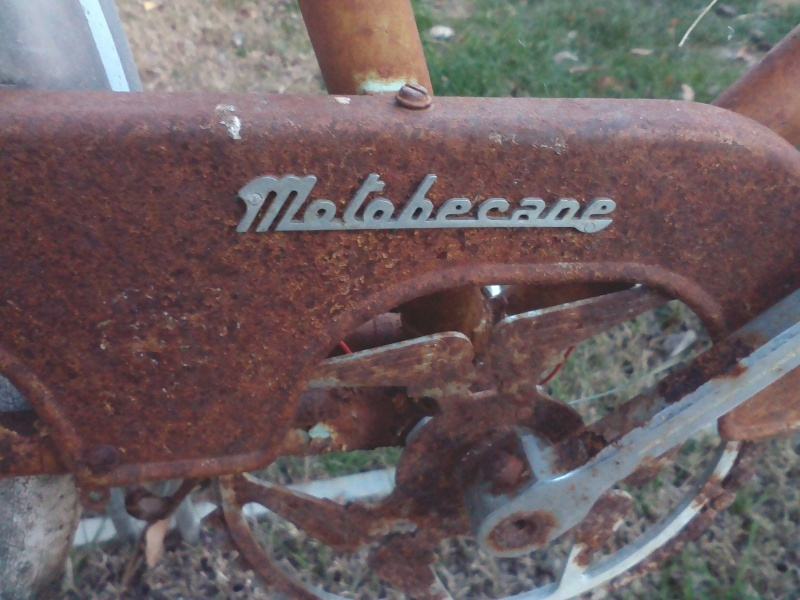text: (241, 160, 256, 239), (257, 160, 272, 239), (273, 160, 288, 239), (289, 160, 304, 239), (305, 160, 320, 239), (321, 160, 336, 239), (337, 160, 352, 239), (353, 160, 368, 239), (369, 160, 384, 239), (385, 160, 400, 239), (401, 160, 416, 239), (417, 160, 432, 239), (433, 160, 448, 239), (449, 160, 464, 239), (465, 160, 480, 239), (481, 160, 496, 239), (497, 160, 512, 239), (513, 160, 528, 239), (529, 160, 544, 239), (545, 160, 560, 239), (561, 160, 576, 239), (577, 160, 592, 239), (593, 160, 608, 239), (609, 160, 623, 239), (232, 160, 240, 239)
